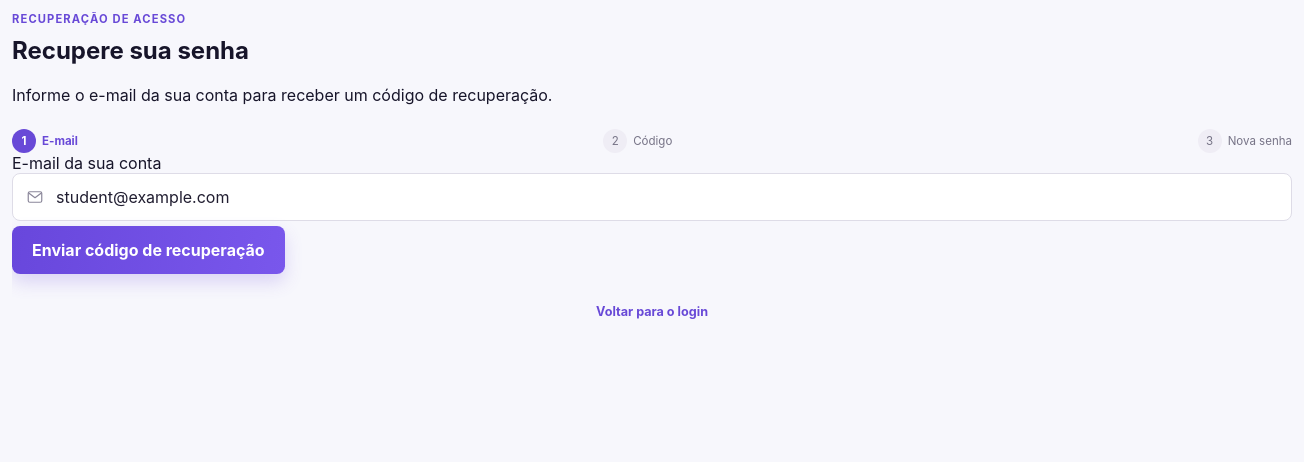
Test: recuperação de senha › permite corrigir código inválido sem sair da etapa
Submit the form, box [12,153,1292,274]
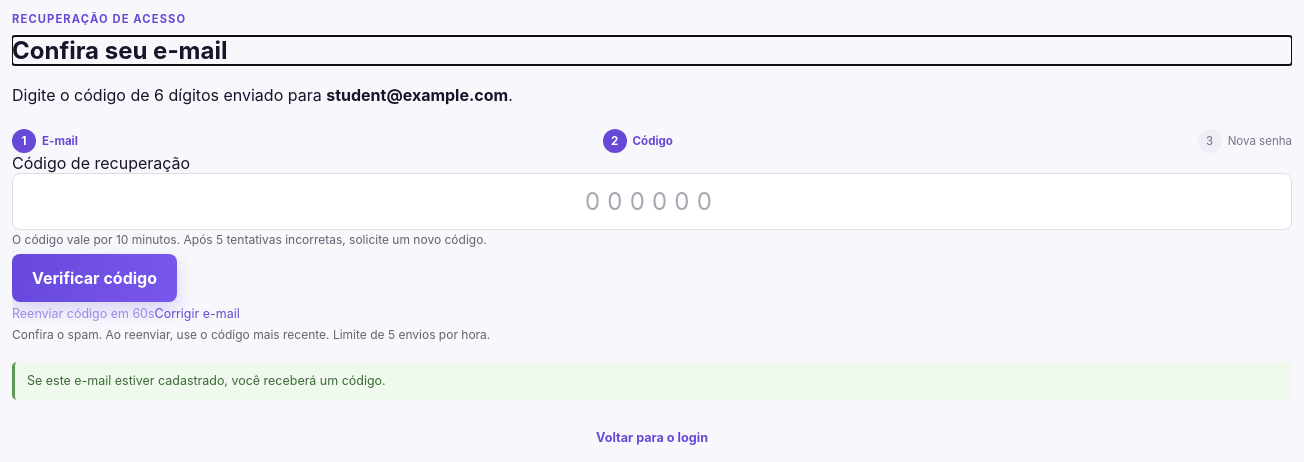
In the field labelled "Código de recuperação": point(652, 201) [12,173,1292,230], type "001234"
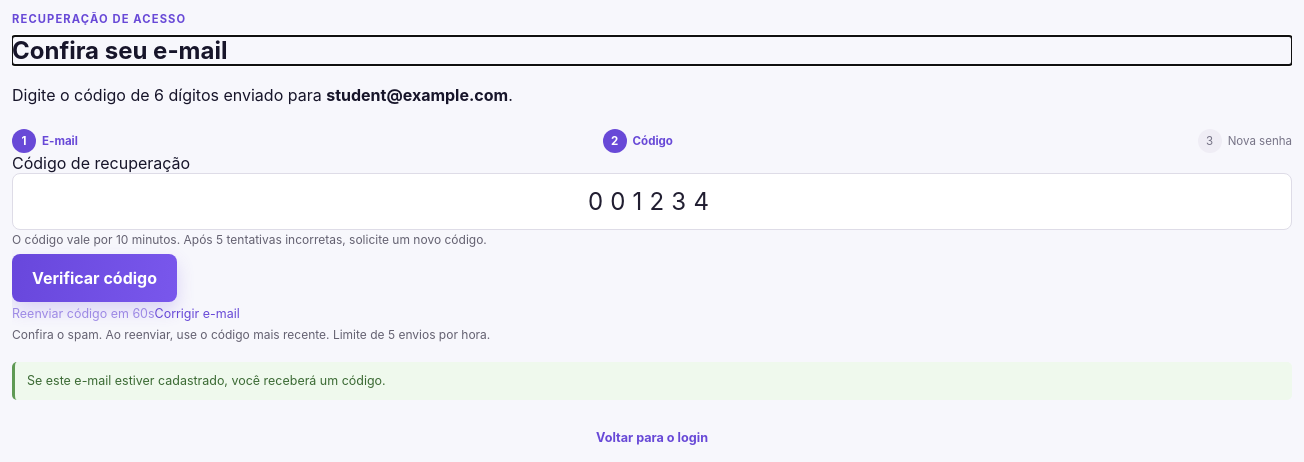
Submit the form, box [12,153,1292,344]
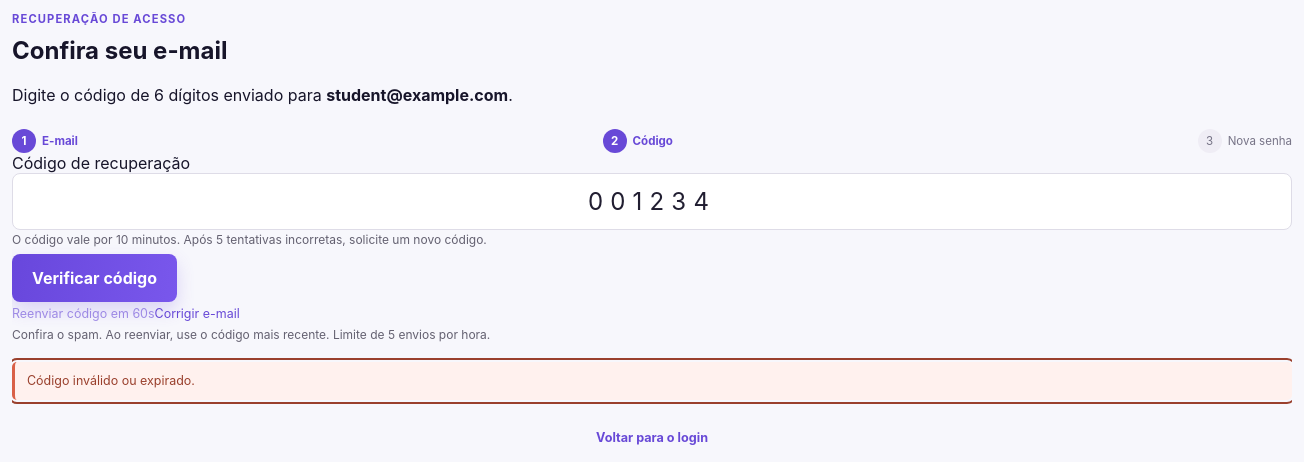
Expected: the submit button is enabled, [12,254,177,302]
Result: the message "Código inválido ou expirado." is shown at [12,362,1292,400]
